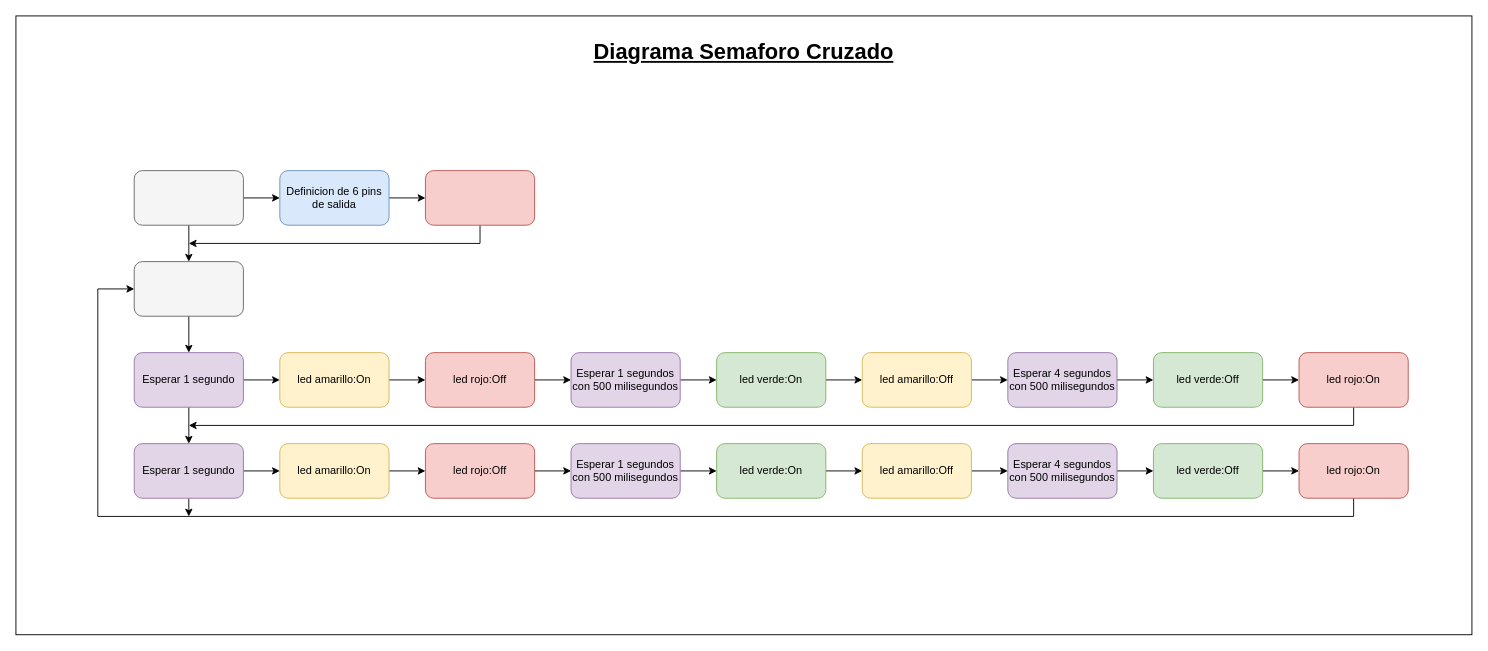
The diagram is 1488 pixels wide and 651 high, and some of its shapes have lost their labels. Each missing label, with the centre of its shape:
"leds rojos:On" goes at (480,197).
"loop" goes at (188,288).
"setup" goes at (188,197).
